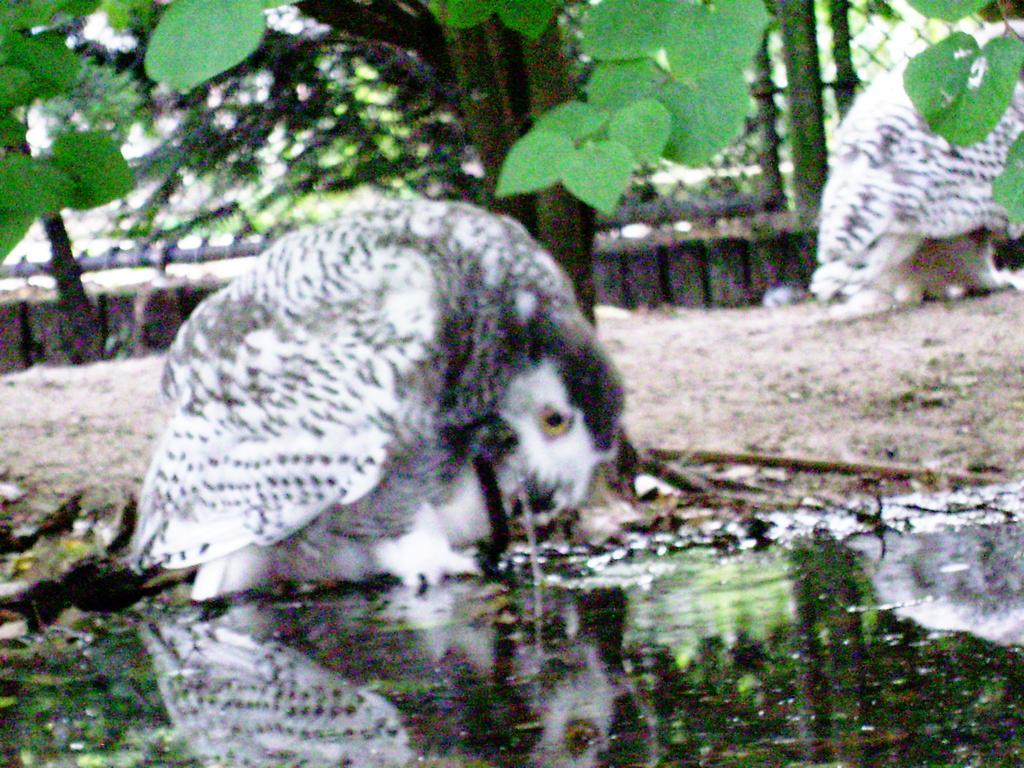Owl: (127, 190, 635, 614), (807, 24, 1023, 318)
